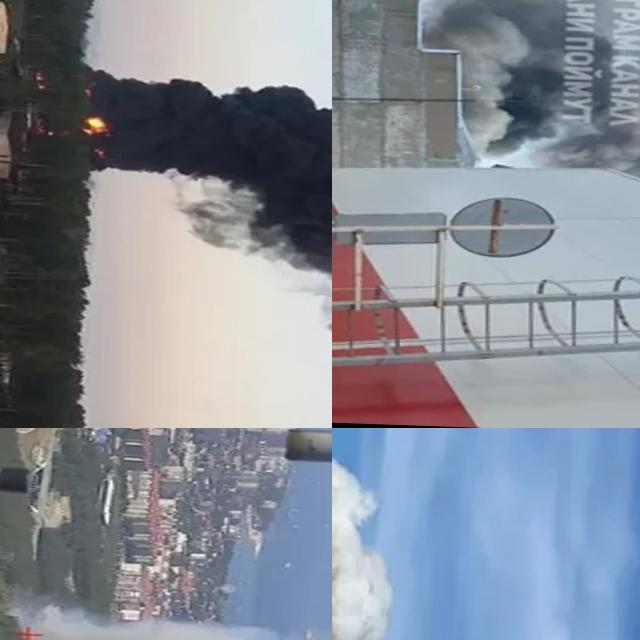smoke: (81, 69, 332, 273), (456, 0, 640, 215)
